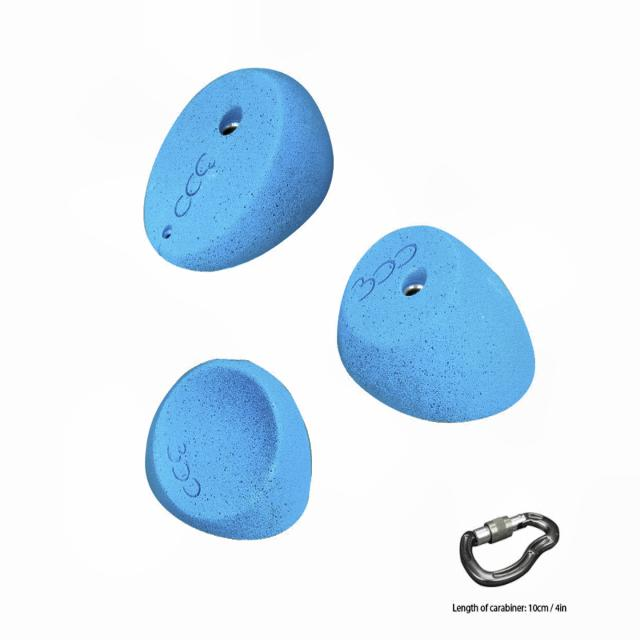Hold: (138, 63, 344, 275), (330, 224, 540, 425), (143, 358, 313, 542)
